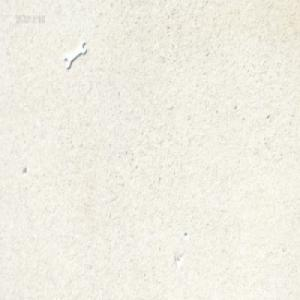Wrench: (63, 36, 87, 68)
